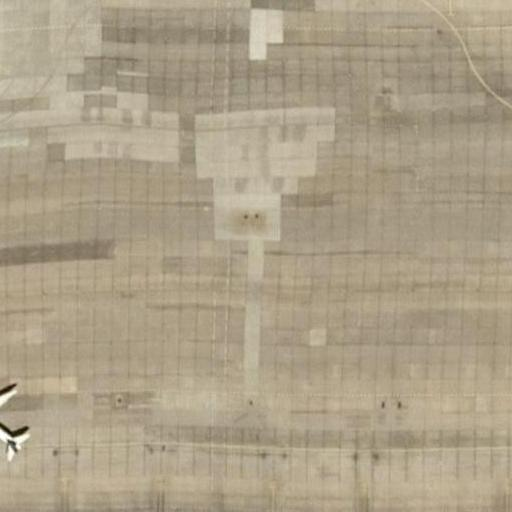Aircraft: (0, 373, 30, 468)
